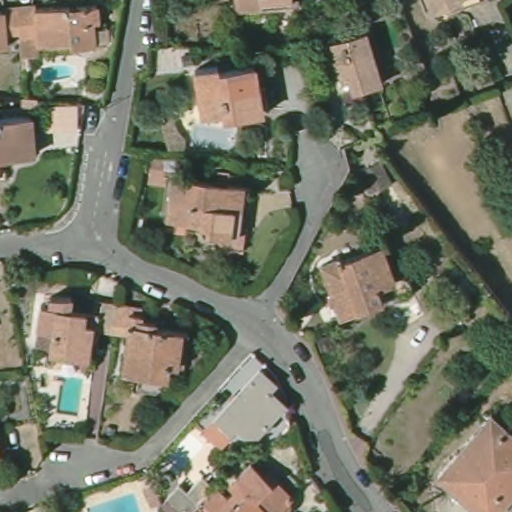pool: (52, 374, 88, 419), (85, 489, 144, 510), (35, 62, 78, 83)
